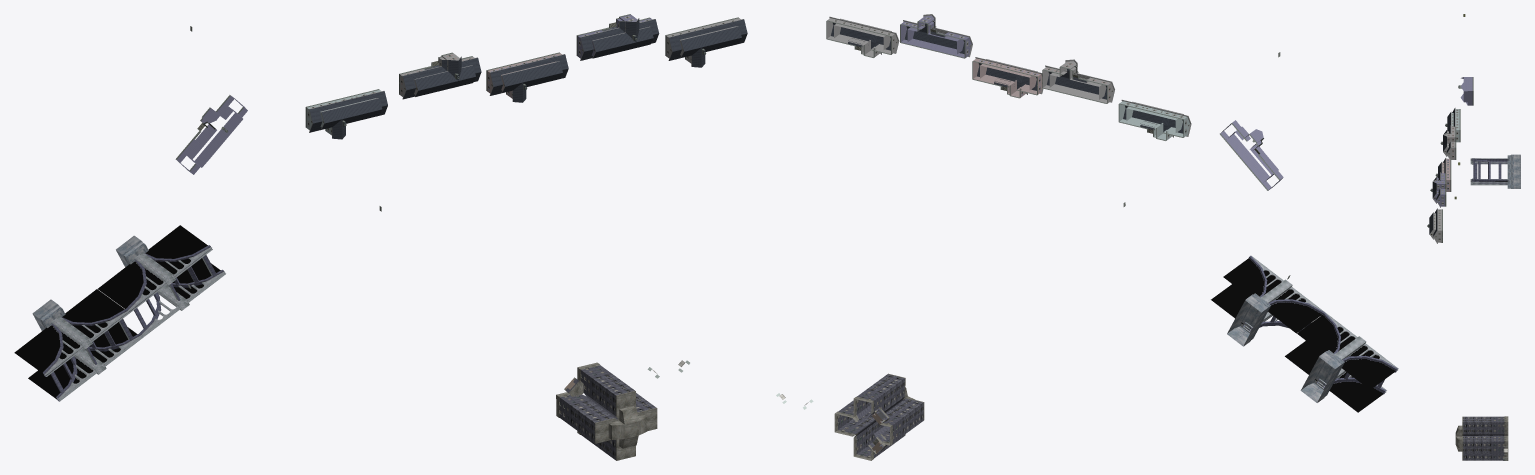
File: landne_landne__part_11.obj
3 renders of one model, left to right at view 1: azimuth 30°, elevation 25°; view 2: azimuth 150°, elevation 25°; view 3: azimuth 270°, elevation 25°, orthographic. The views are drawn at different scales.
Visible parts, largest first — view 1: landne_landne__part_11; view 2: landne_landne__part_11; view 3: landne_landne__part_11.
Part boxes in pixels (box(x1,y1,x2,y2)): landne_landne__part_11: box(14, 14, 747, 460); landne_landne__part_11: box(776, 14, 1398, 460); landne_landne__part_11: box(1427, 14, 1520, 460).
Size of the model in its own units: 490 by 374 by 99.68.
96 materials, 96 textured.
